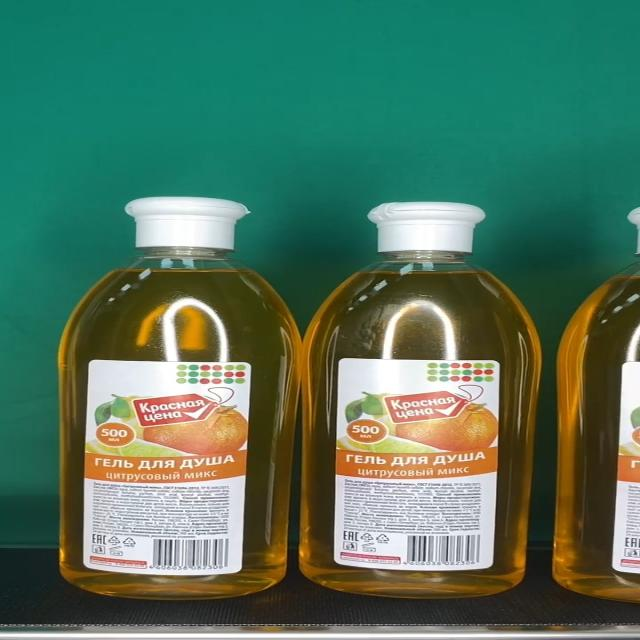Bottle: (59, 198, 303, 600), (301, 202, 542, 600)
Cap: (124, 198, 250, 248), (366, 202, 487, 253)
